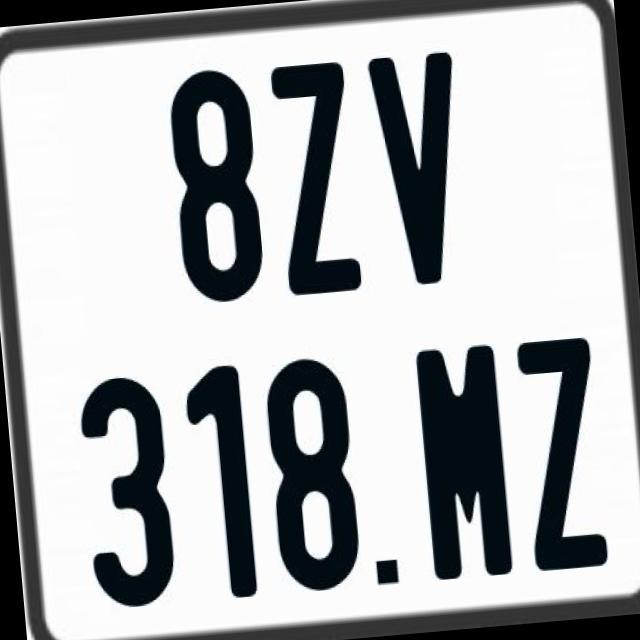1: (178, 360, 256, 598)
3: (76, 371, 176, 606)
8: (258, 352, 365, 597), (165, 61, 274, 300)
M: (411, 342, 515, 578)
V: (362, 48, 470, 284)
Z: (268, 58, 363, 297), (514, 335, 610, 570)
